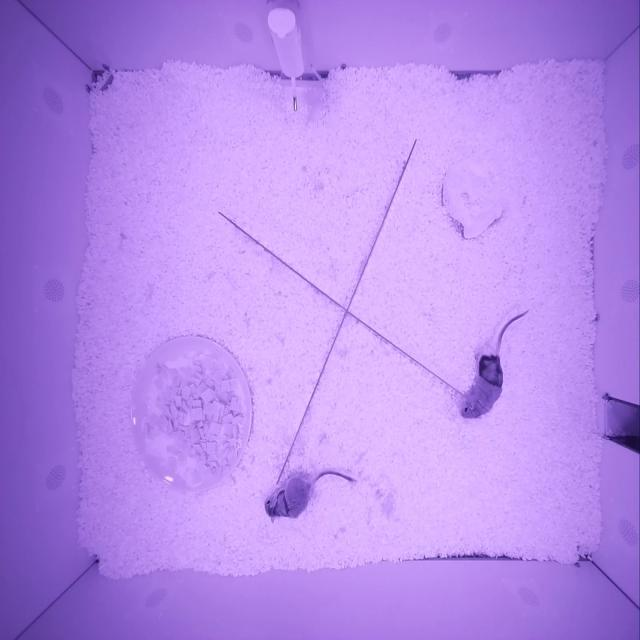adult_back: (461, 354, 503, 419)
adult_front: (264, 477, 314, 523)
